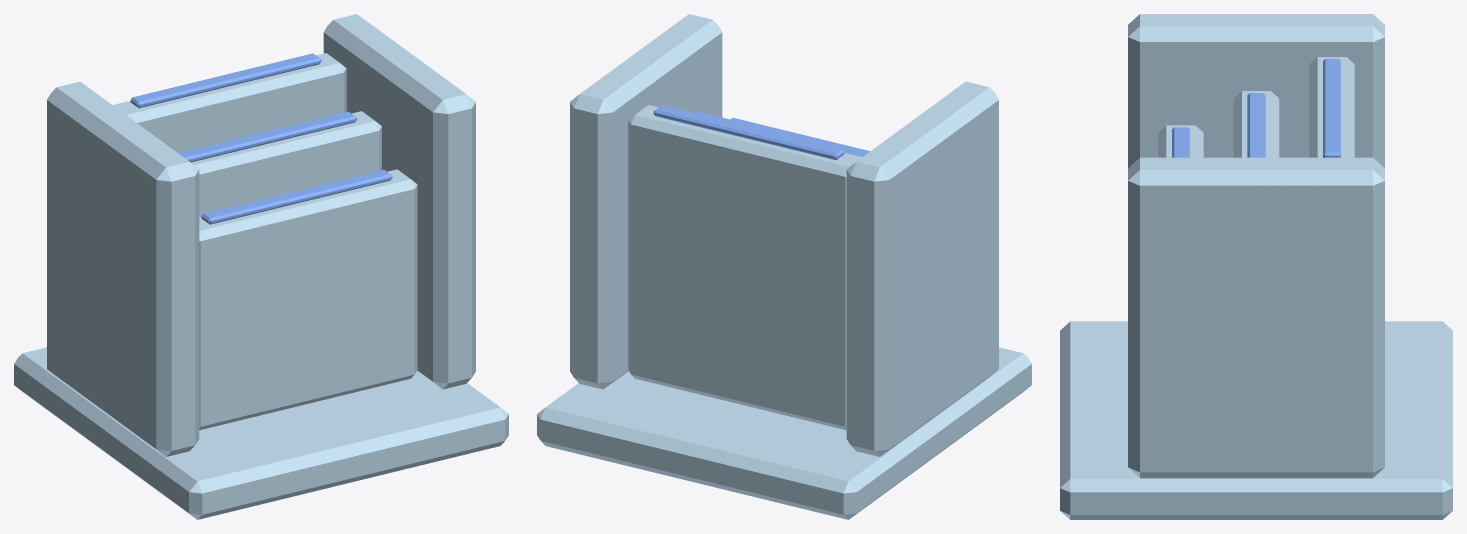
File: R4X_WallDeployer_LOD1.glb
3 views of the same model, side by side, from view 1: azimuth 30°, elevation 25°; view 2: azimuth 150°, elevation 25°; view 3: azimuth 270°, elevation 25° (orthographic). The views are drawn at different scales.
Parts seen in each view (by area): view 1: R4X_WallDeployer_LOD1; view 2: R4X_WallDeployer_LOD1; view 3: R4X_WallDeployer_LOD1.
Boxes of the visible parts, <box> form: R4X_WallDeployer_LOD1: <box>14,14,508,519</box>; R4X_WallDeployer_LOD1: <box>537,14,1031,519</box>; R4X_WallDeployer_LOD1: <box>1060,14,1452,519</box>.
Bounding box in the file's own units: 0.52 × 0.51 × 0.52.
